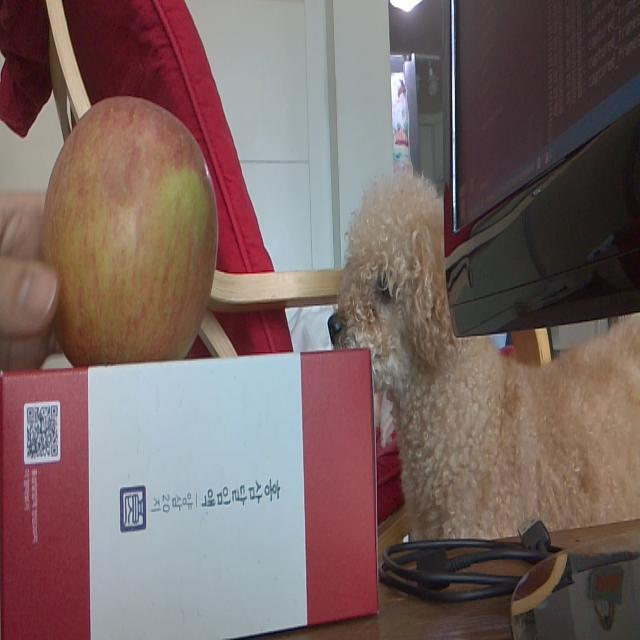apple: (36, 88, 221, 364)
